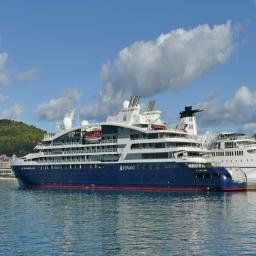cruises: (10, 95, 251, 195)
